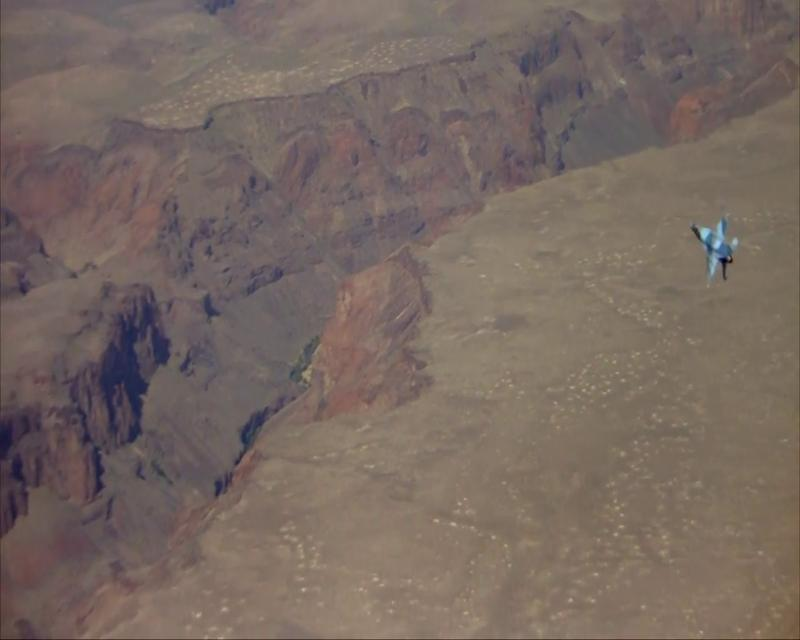UAV: (691, 218, 740, 288)
